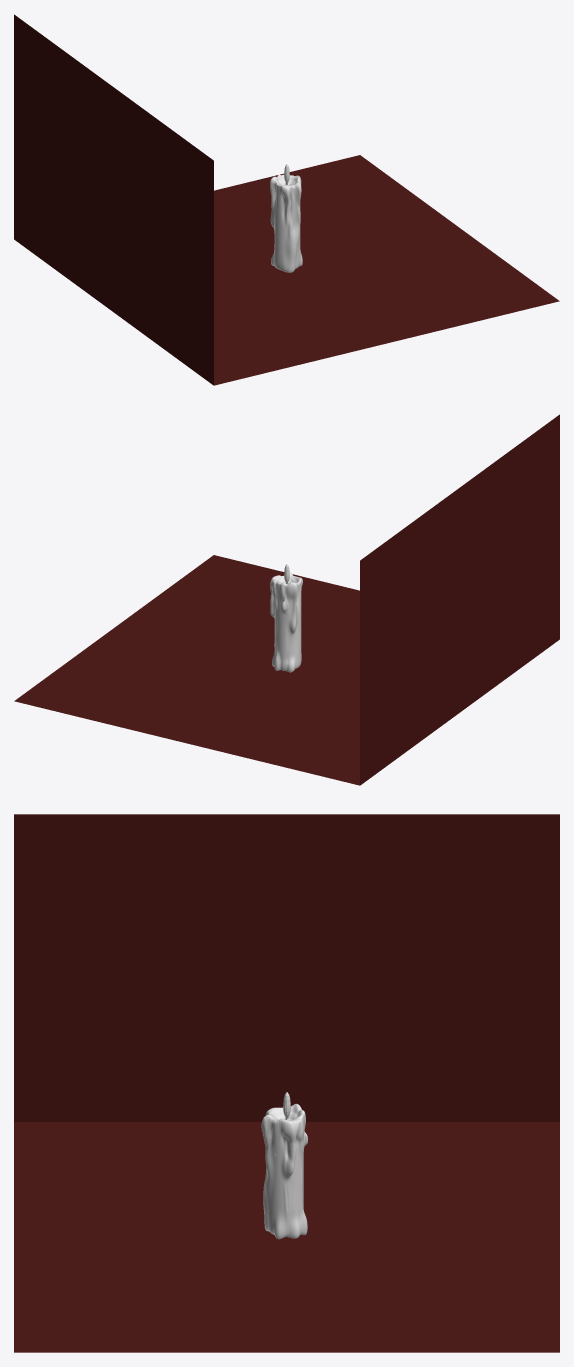
File: candle.fbx
3 views of the same model, one above another, from view 1: azimuth 30°, elevation 25°; view 2: azimuth 150°, elevation 25°; view 3: azimuth 270°, elevation 25° (orthographic). The views are drawn at different scales.
Parts seen in each view (by area): view 1: Cylinder; view 2: Cylinder; view 3: Cylinder.
Boxes of the visible parts, box(x1,y1,x2,y2) form: Cylinder: box(14, 14, 559, 385); Cylinder: box(14, 414, 559, 785); Cylinder: box(14, 814, 559, 1352).
Bounding box in the file's own units: 593 × 369 × 593.
